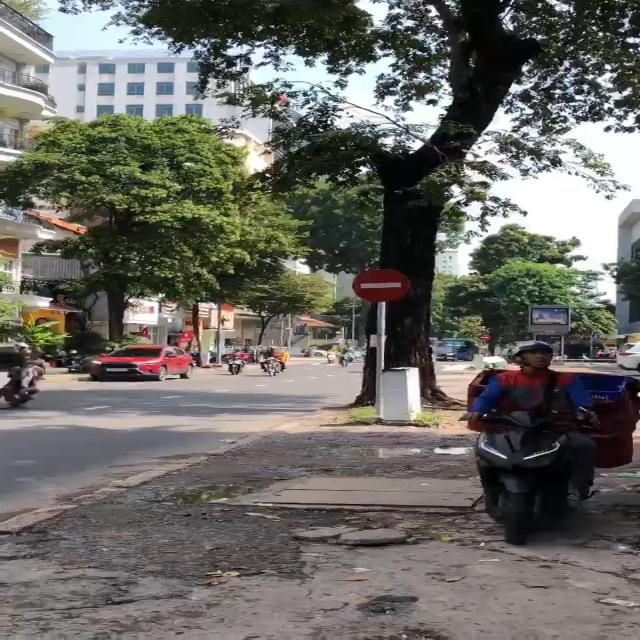Bien bao cam di nguoc chieu: (350, 266, 414, 304)
